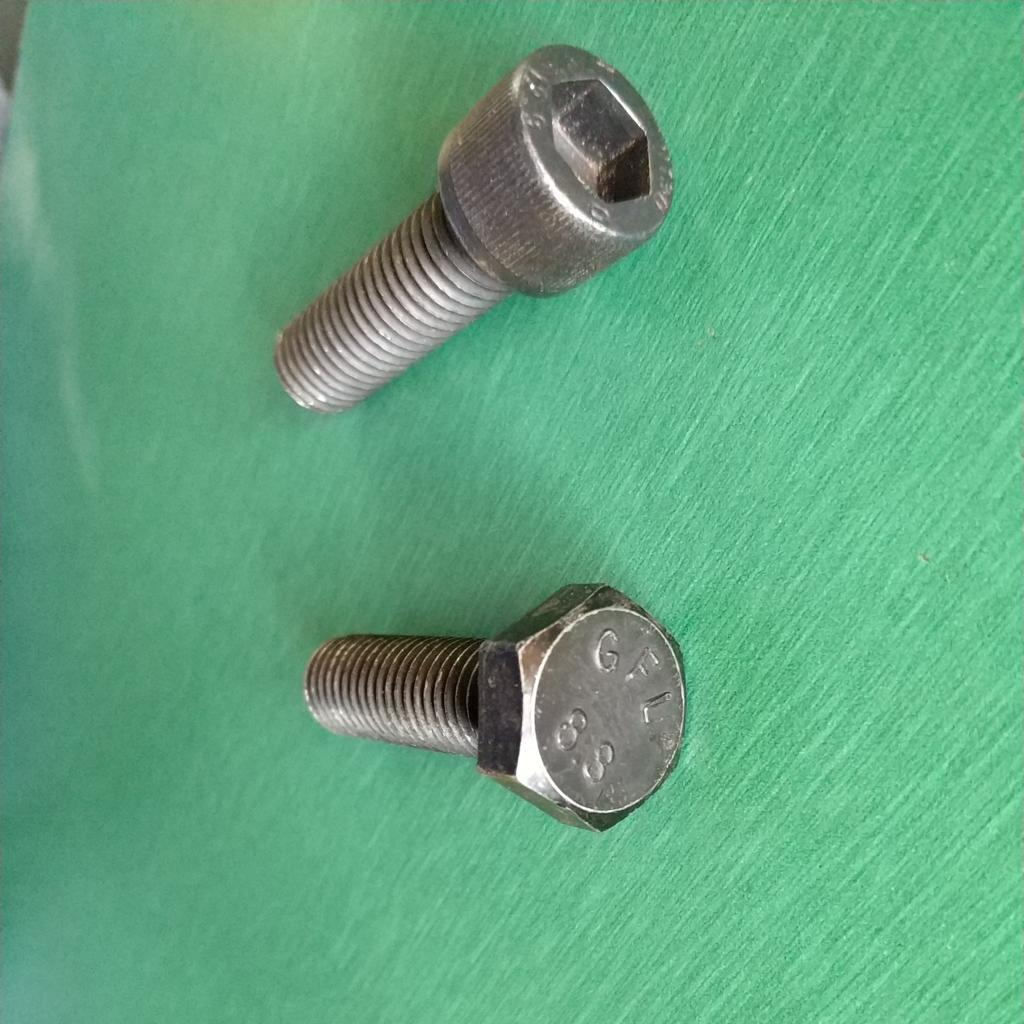screwtype1silver: (219, 37, 679, 423)
screwtype2silver: (294, 577, 693, 839)
